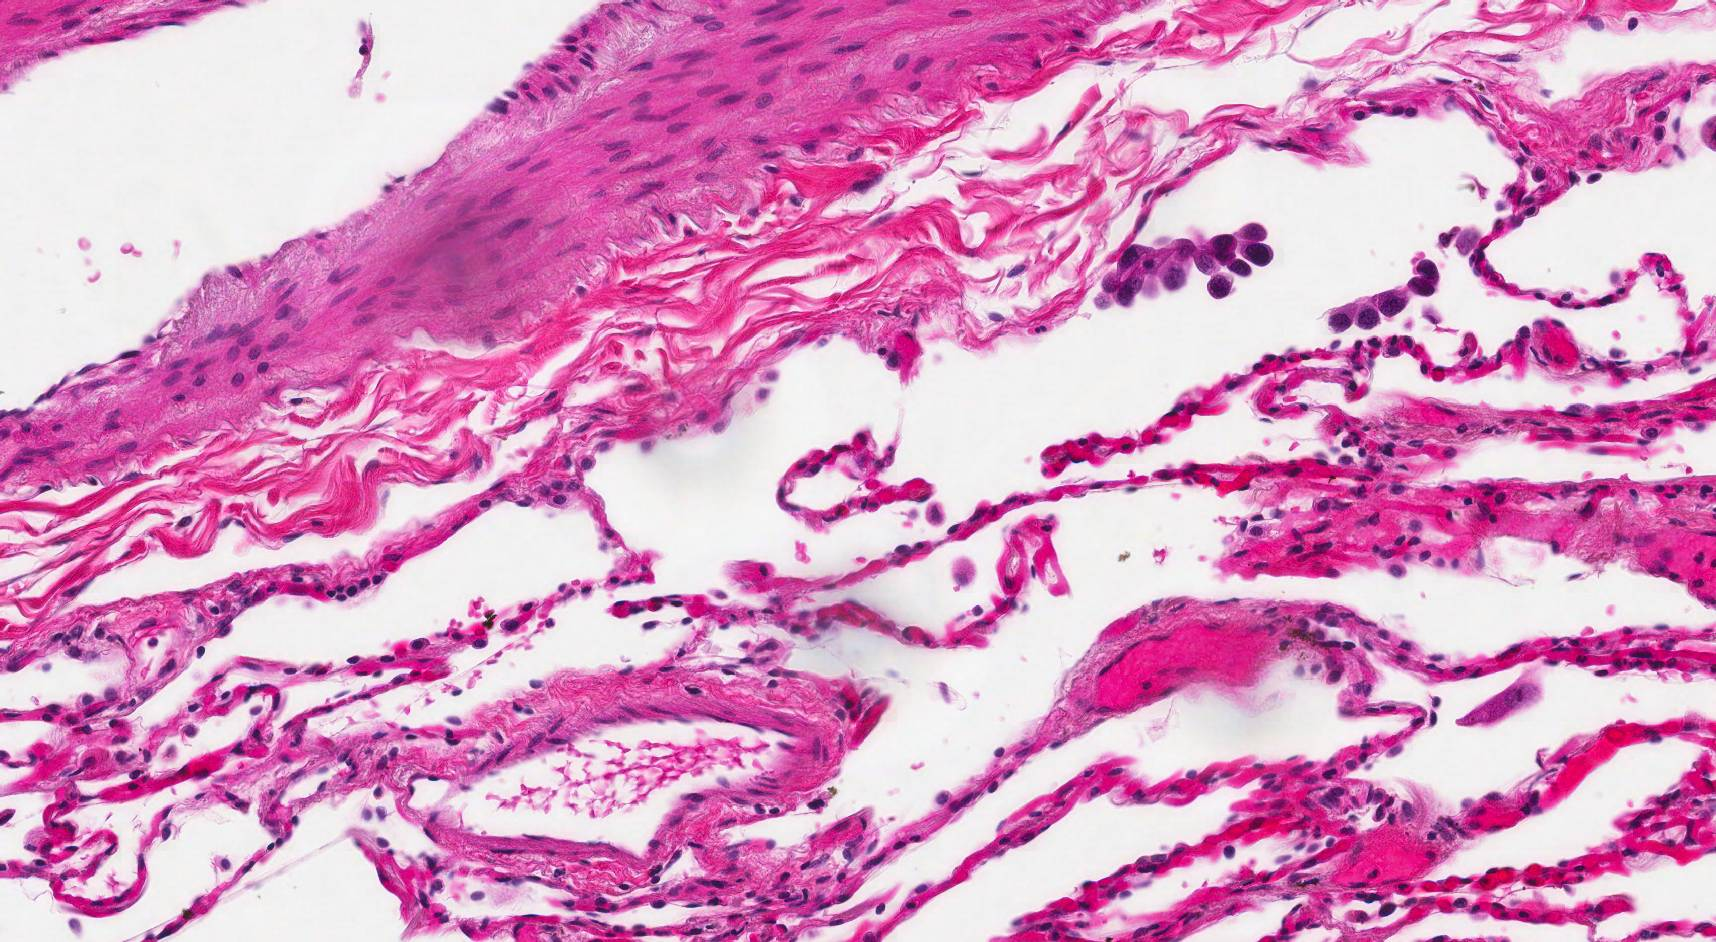stas: (1093, 222, 1278, 307), (1325, 258, 1443, 332)
